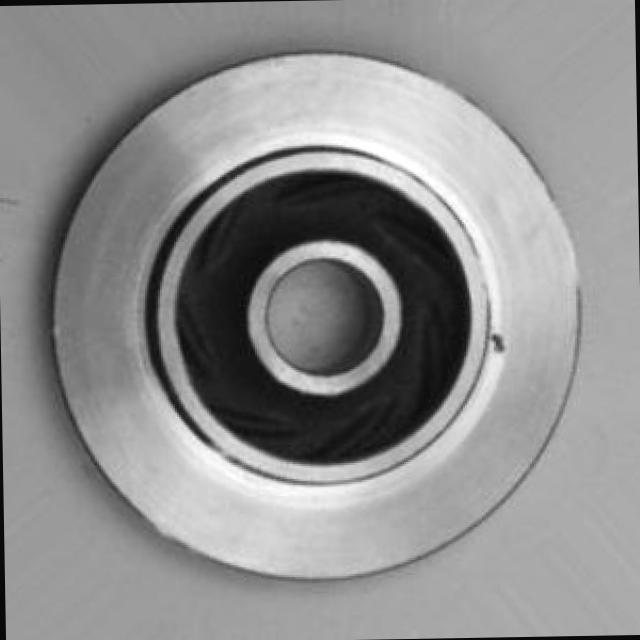Defect: (492, 330, 507, 356)
